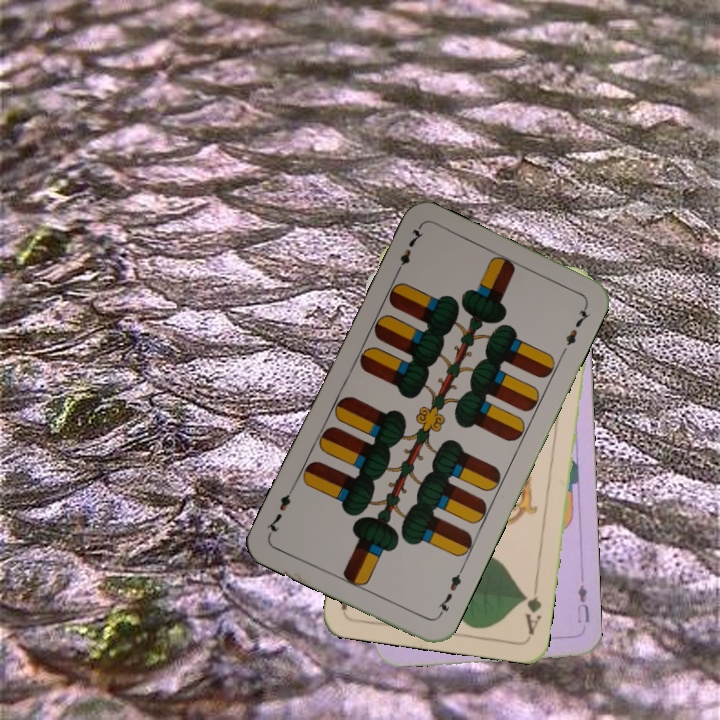E7: (391, 223, 426, 279), (434, 564, 466, 620)
EU: (573, 575, 592, 625)
GA: (519, 579, 544, 637)
